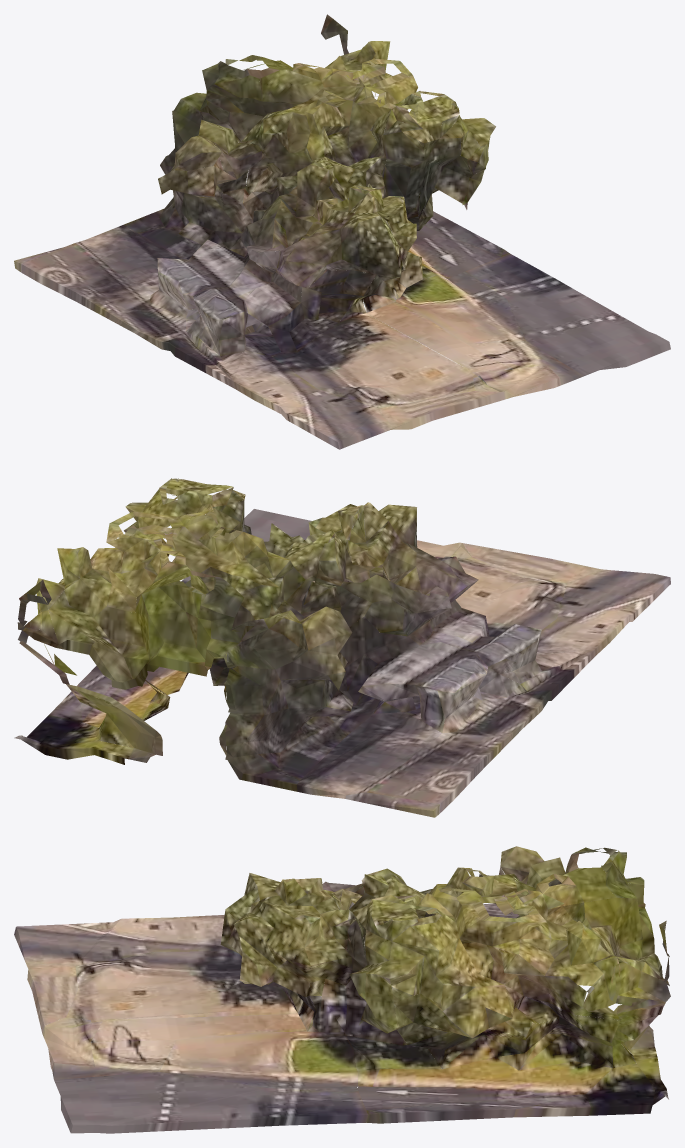
3 renders of one model, top to bottom at view 1: azimuth 30°, elevation 25°; view 2: azimuth 150°, elevation 25°; view 3: azimuth 270°, elevation 25°, orthographic. The views are drawn at different scales.
Parts seen in each view (by area): view 1: Mesh_0; view 2: Mesh_0; view 3: Mesh_0.
Part boxes in pixels (bbox=[...]): Mesh_0: bbox=[14, 14, 670, 449]; Mesh_0: bbox=[14, 478, 670, 817]; Mesh_0: bbox=[14, 846, 670, 1133].
Size of the model in its own units: 33.25 by 12.87 by 41.61.
Materials: 2 (2 with a texture image).
